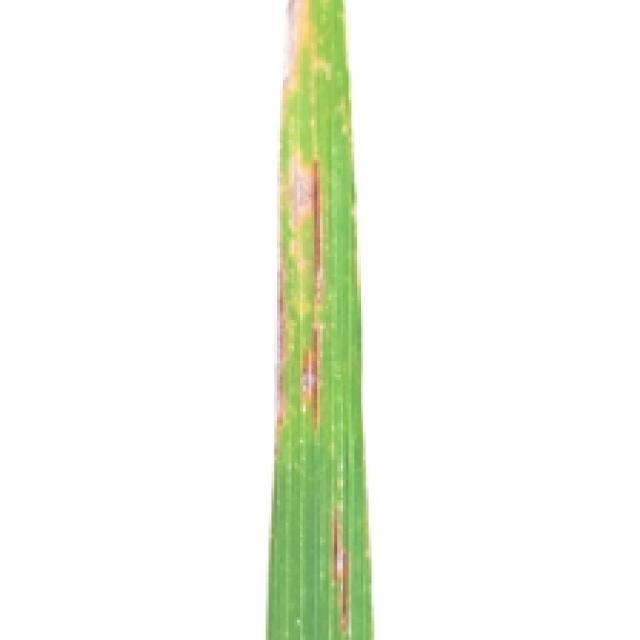Rice___Bacterial_Leaf_Blight: (264, 0, 376, 637)
